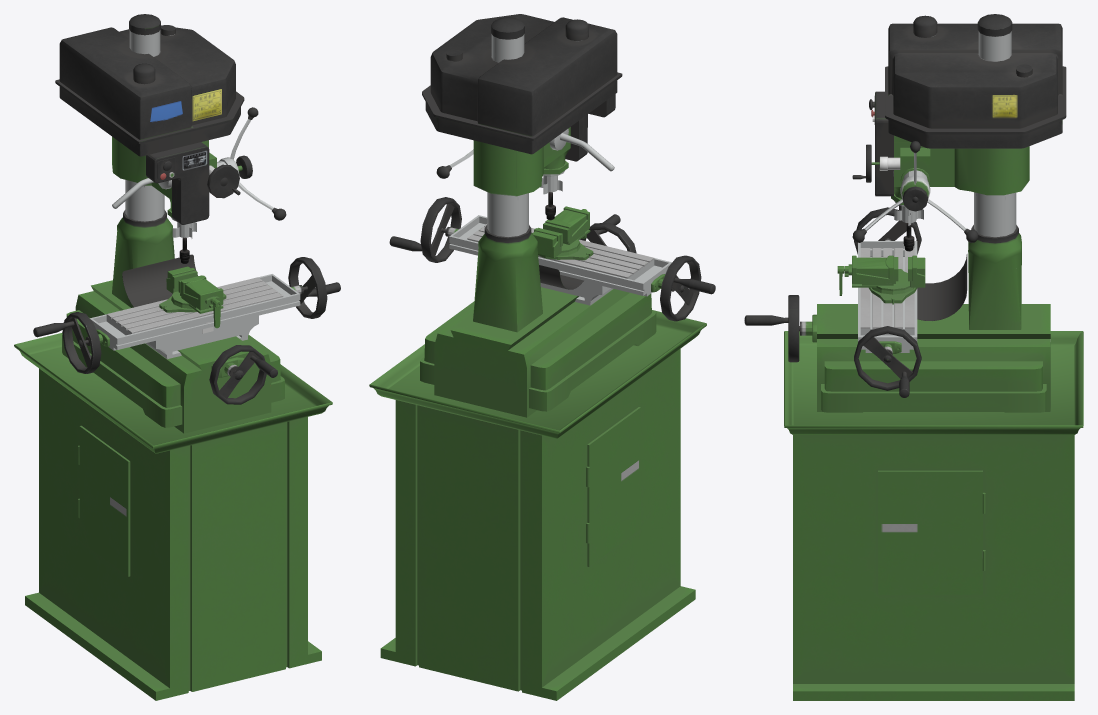
File: zuanxichuang_Split.fbx
3 renders of one model, left to right at view 1: azimuth 30°, elevation 25°; view 2: azimuth 150°, elevation 25°; view 3: azimuth 270°, elevation 25°, orthographic. The views are drawn at different scales.
Visible parts, largest first — view 1: zuanxichuang (×2), tai, Box002, zuanxichuang04, zuanxichuang05, polySurface1, zuanxichuang03, zuanxichuang01; view 2: zuanxichuang (×2), tai, zuanxichuang03, zuanxichuang05, Box002, zuanxichuang04, polySurface1; view 3: zuanxichuang (×2), Box002, zuanxichuang03, polySurface1, zuanxichuang01, tai, zuanxichuang04, zuanxichuang05.
Boxes of the visible parts, x1,y1,x2,y2 form: zuanxichuang (×2): (14, 14, 332, 700); tai: (90, 274, 300, 359); Box002: (106, 277, 283, 333); zuanxichuang04: (209, 345, 277, 404); zuanxichuang05: (33, 312, 102, 373); polySurface1: (122, 254, 197, 307); zuanxichuang03: (288, 257, 340, 318); zuanxichuang01: (217, 107, 286, 220); zuanxichuang (×2): (369, 14, 706, 700); tai: (449, 215, 671, 305); zuanxichuang03: (389, 197, 461, 262); zuanxichuang05: (658, 255, 715, 321); Box002: (467, 224, 654, 278); zuanxichuang04: (580, 214, 636, 253); polySurface1: (539, 265, 583, 289); zuanxichuang (×2): (784, 14, 1083, 700); Box002: (860, 248, 914, 328); zuanxichuang03: (854, 326, 921, 397); polySurface1: (917, 254, 967, 320); zuanxichuang01: (852, 141, 978, 242); tai: (858, 241, 917, 353); zuanxichuang04: (744, 295, 812, 362); zuanxichuang05: (854, 205, 921, 254).
Size of the model in its own units: 809 by 1505 by 723.
3 materials, 3 textured.
